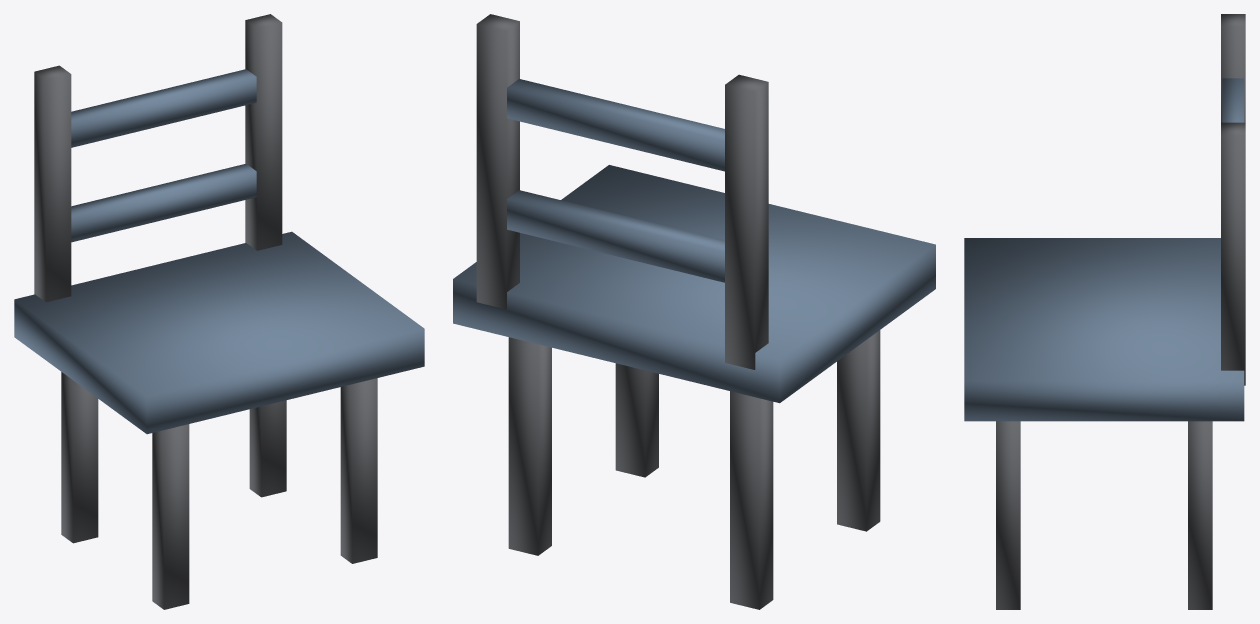
Rendered from station_bench__wide.glb.
The picture shows the model from 3 angles, left to right: view 1: azimuth 30°, elevation 25°; view 2: azimuth 150°, elevation 25°; view 3: azimuth 270°, elevation 25°; orthographic projection. The views are drawn at different scales.
Visible parts, largest first — view 1: world; view 2: world; view 3: world.
Boxes of the visible parts, x1,y1,x2,y2 form: world: (14, 14, 424, 609); world: (453, 14, 935, 609); world: (964, 14, 1245, 609).
Bounding box in the file's own units: 0.6149 × 0.9614 × 0.5112.
